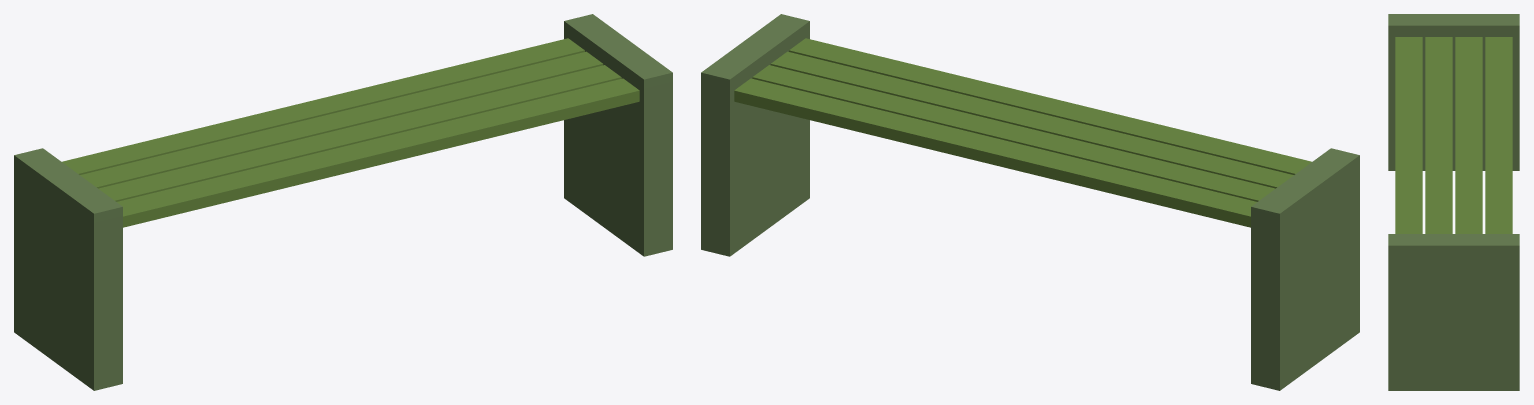
Rendered from Bench_03.fbx.
3 renders of one model, left to right at view 1: azimuth 30°, elevation 25°; view 2: azimuth 150°, elevation 25°; view 3: azimuth 270°, elevation 25°, orthographic. The views are drawn at different scales.
Parts seen in each view (by area): view 1: Bench_03; view 2: Bench_03; view 3: Bench_03.
Boxes of the visible parts, x1,y1,x2,y2 form: Bench_03: (14,14,672,390); Bench_03: (701,14,1359,390); Bench_03: (1388,14,1519,390).
Size of the model in its own units: 1.71 by 0.5 by 0.4095.
